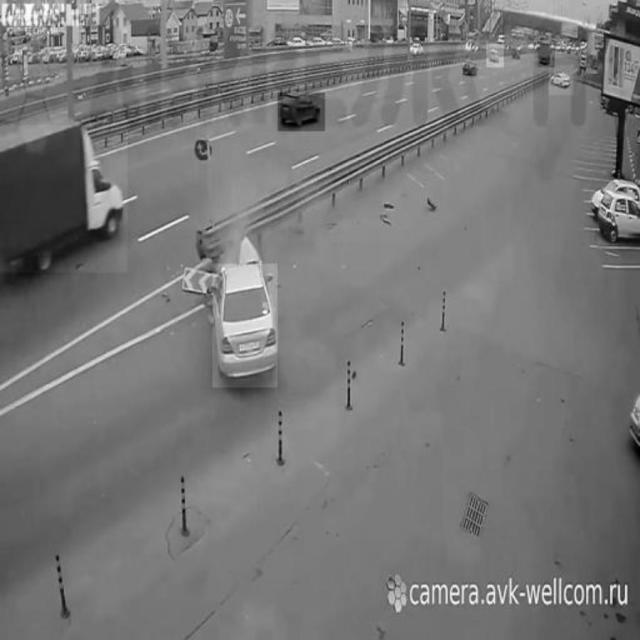vehicle: (0, 125, 128, 272), (213, 264, 279, 388), (598, 189, 640, 246), (278, 92, 325, 130), (549, 65, 574, 95), (537, 35, 555, 67), (460, 55, 480, 77), (487, 44, 504, 68), (406, 38, 426, 55)
